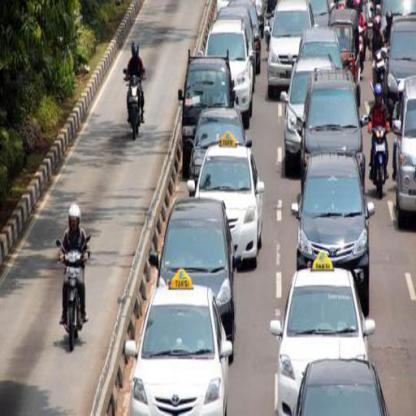car: (130, 284, 233, 416), (270, 267, 378, 381), (160, 197, 235, 317), (301, 154, 368, 268), (200, 139, 266, 242), (291, 356, 391, 415), (392, 73, 416, 228), (192, 104, 247, 164)
motorbike: (54, 237, 91, 346), (122, 66, 148, 137), (368, 122, 392, 194)
